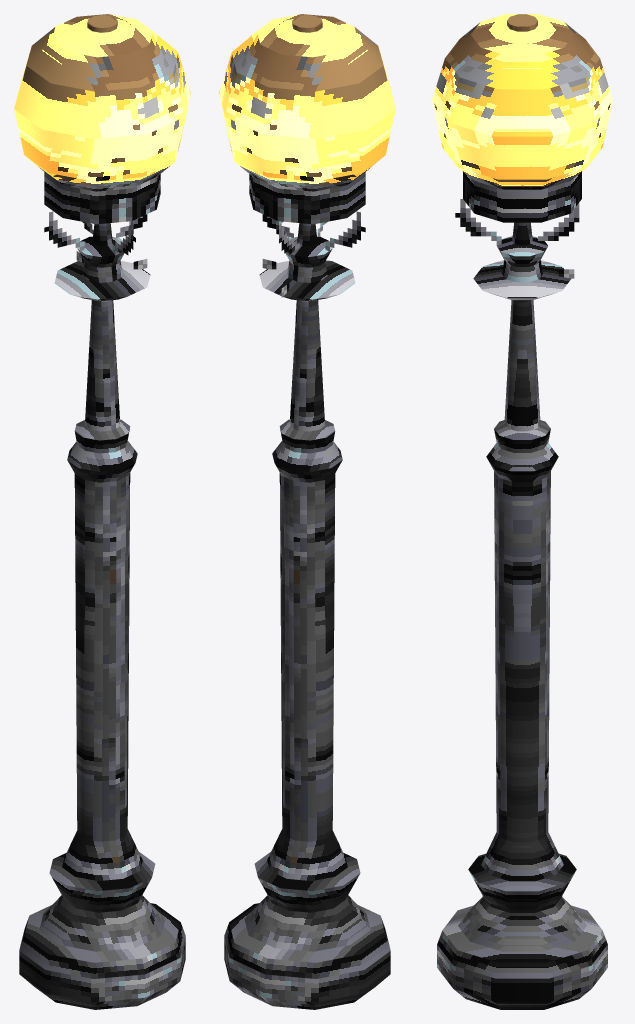
File: lamp-iron-globe.glb
3 renders of one model, left to right at view 1: azimuth 30°, elevation 25°; view 2: azimuth 150°, elevation 25°; view 3: azimuth 270°, elevation 25°, orthographic.
Parts seen in each view (by area): view 1: lathe-210-28; view 2: lathe-210-28; view 3: lathe-210-28.
Part boxes in pixels (x1,y1,x2,y2): lathe-210-28: [14, 14, 190, 1009]; lathe-210-28: [219, 14, 395, 1009]; lathe-210-28: [432, 14, 612, 1009].
Size of the model in its own units: 0.7125 by 3.88 by 0.7125.
Materials: 1 (1 with a texture image).
